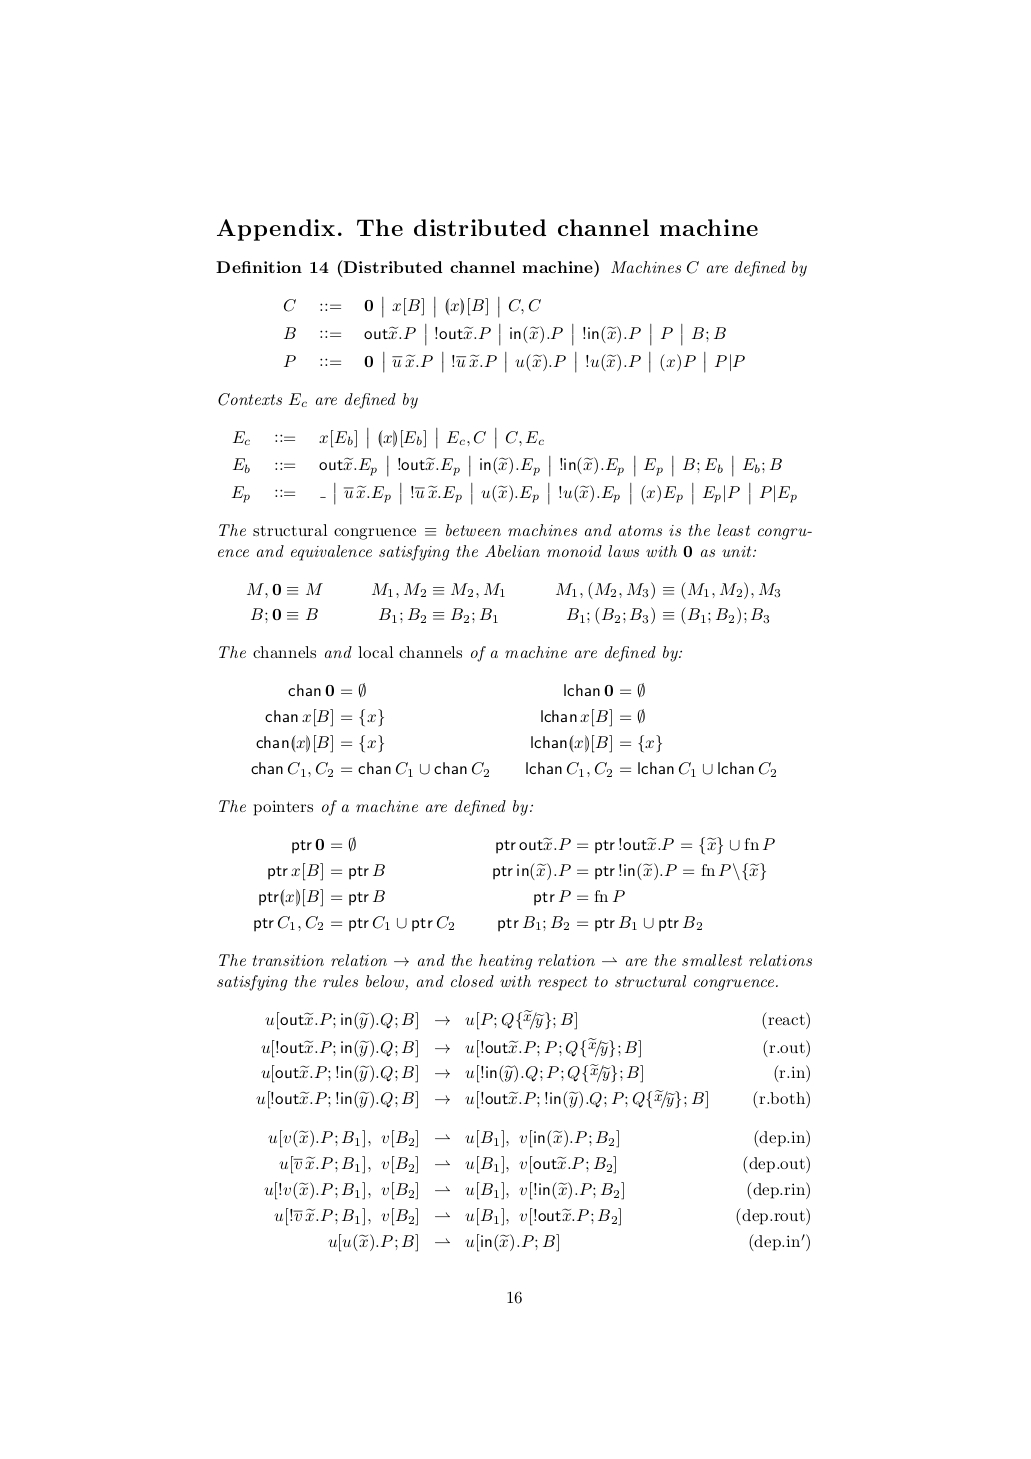formula: (231, 481, 796, 505), (232, 454, 781, 477), (256, 1088, 809, 1109), (261, 1037, 809, 1059), (261, 1062, 809, 1083), (264, 1008, 809, 1030), (268, 1128, 809, 1148), (283, 322, 725, 346), (264, 1181, 809, 1200), (283, 350, 744, 373), (245, 581, 780, 600), (274, 1207, 809, 1226), (279, 1154, 809, 1173), (250, 606, 769, 625), (292, 835, 774, 856), (328, 1231, 809, 1252), (268, 862, 767, 881), (251, 761, 775, 777), (254, 915, 701, 933), (256, 734, 662, 753), (232, 426, 543, 450), (264, 708, 644, 727), (259, 888, 624, 907), (283, 294, 540, 318), (288, 682, 644, 698)
